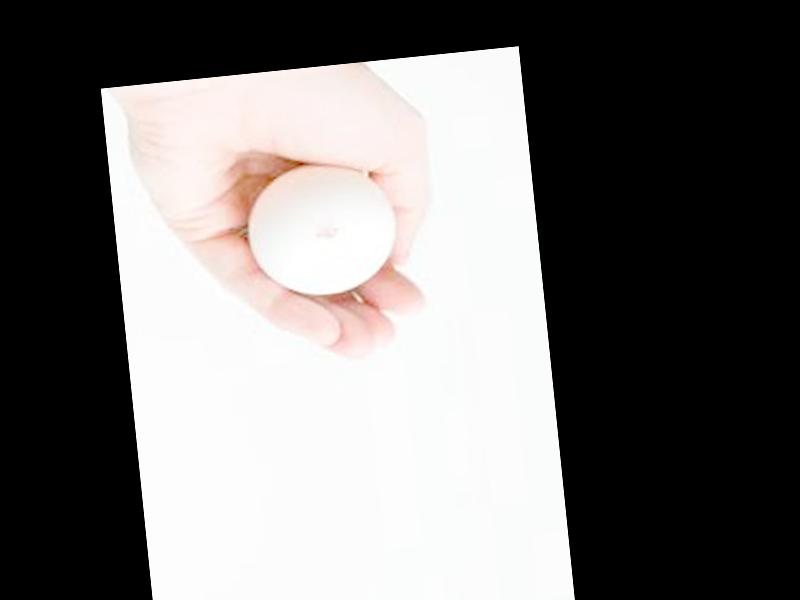Eggs: (245, 160, 397, 301)
